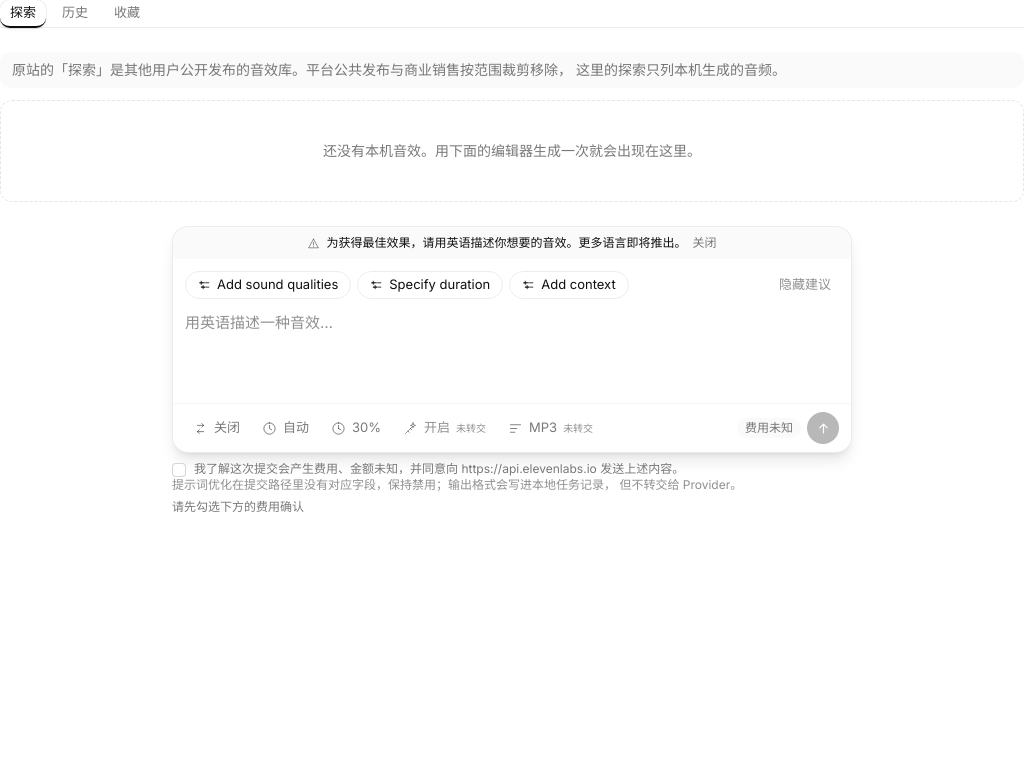
SfxPage › submits the trimmed prompt with the chosen local duration
Expected: the text box named "音效提示词" is shown, [185,311,839,391]
Click the button with aria-label "时长：自动".
click(286, 428)  # box [254,412,317,444]
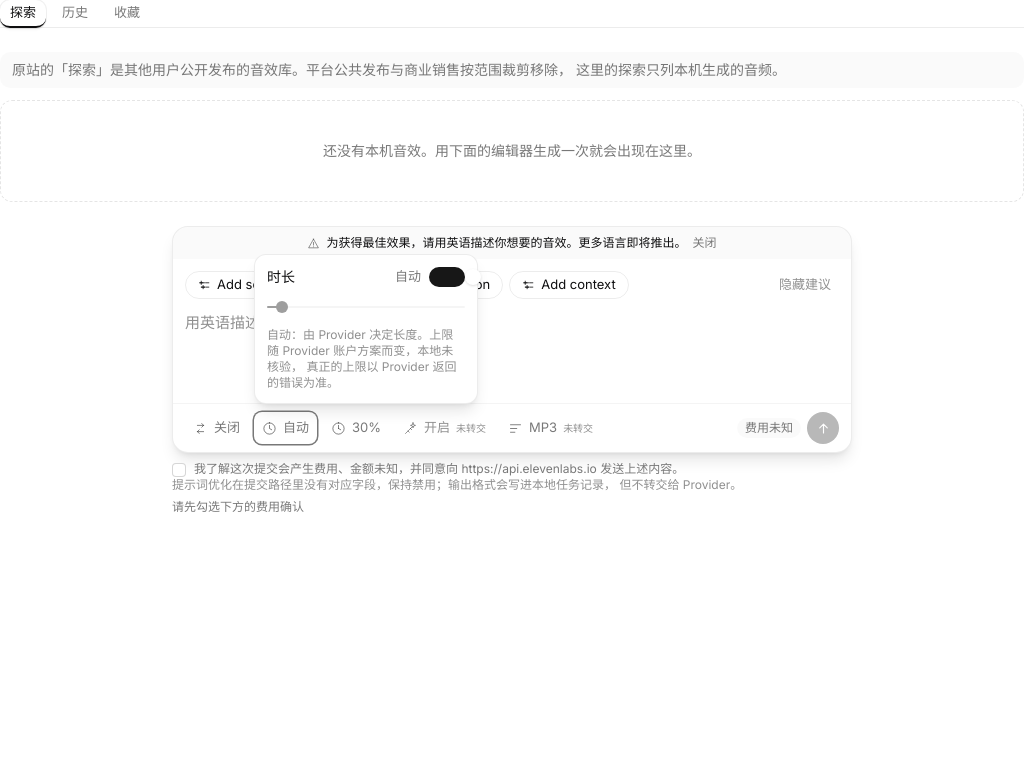
Click the switch named "时长自动".
click(447, 277)  # box [429,267,465,287]
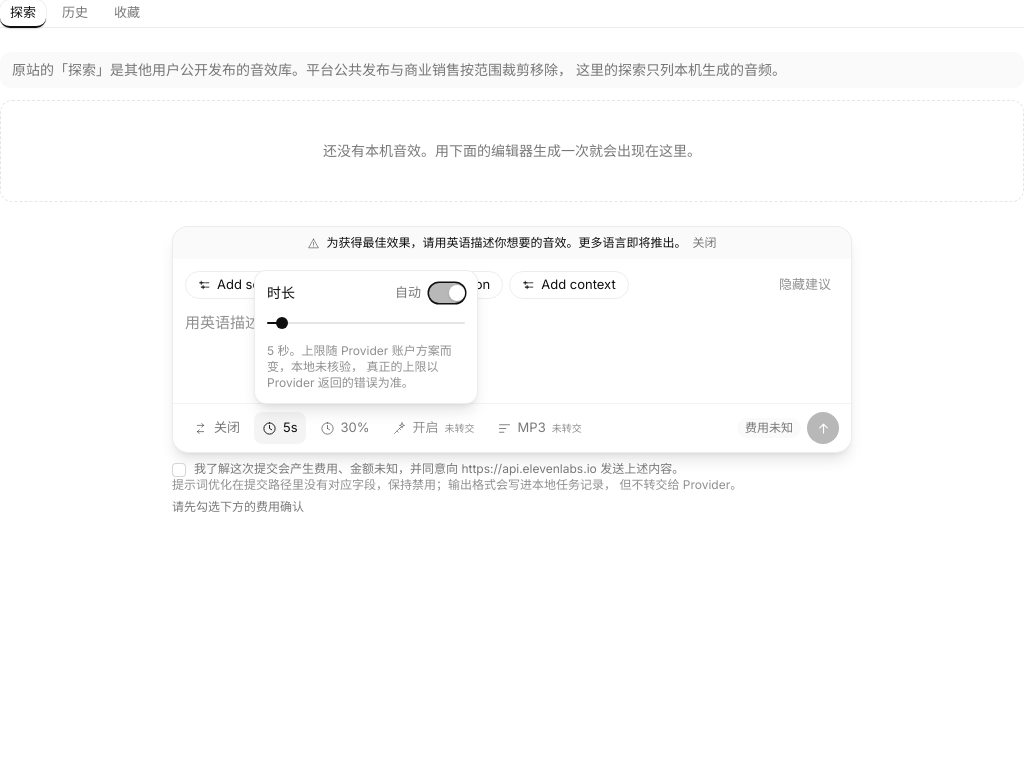
Press Escape
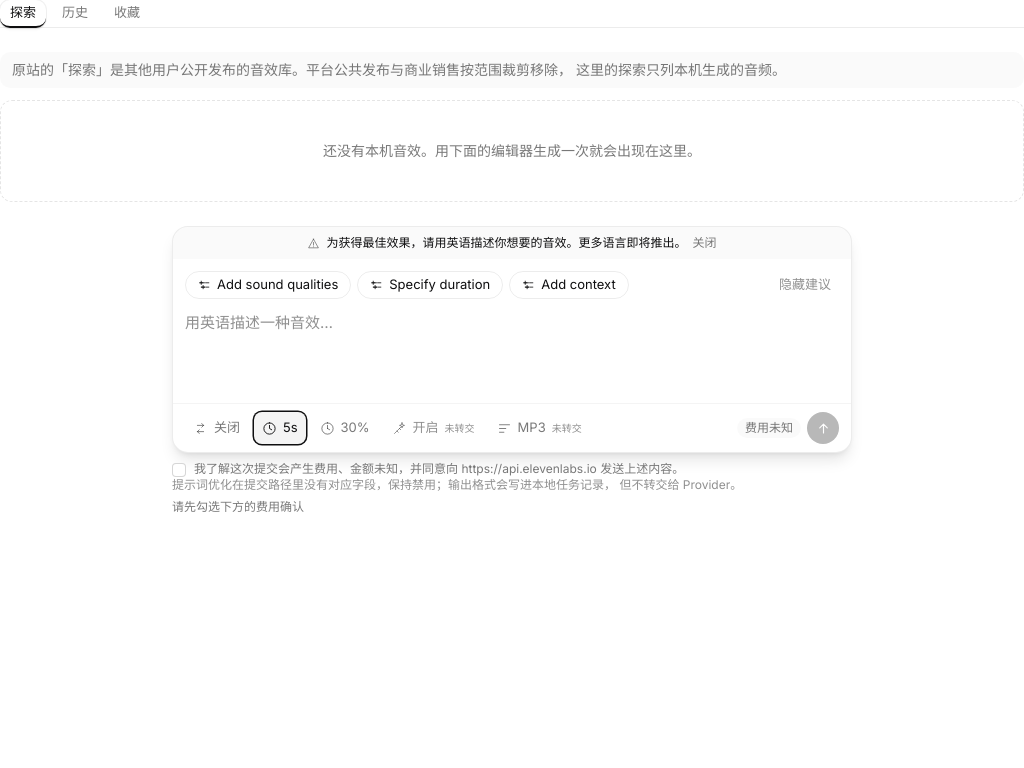
Type "  篝火噼啪声  " into the text box named "音效提示词".
click(512, 351); type("  篝火噼啪声  ")  # box [185,311,839,391]
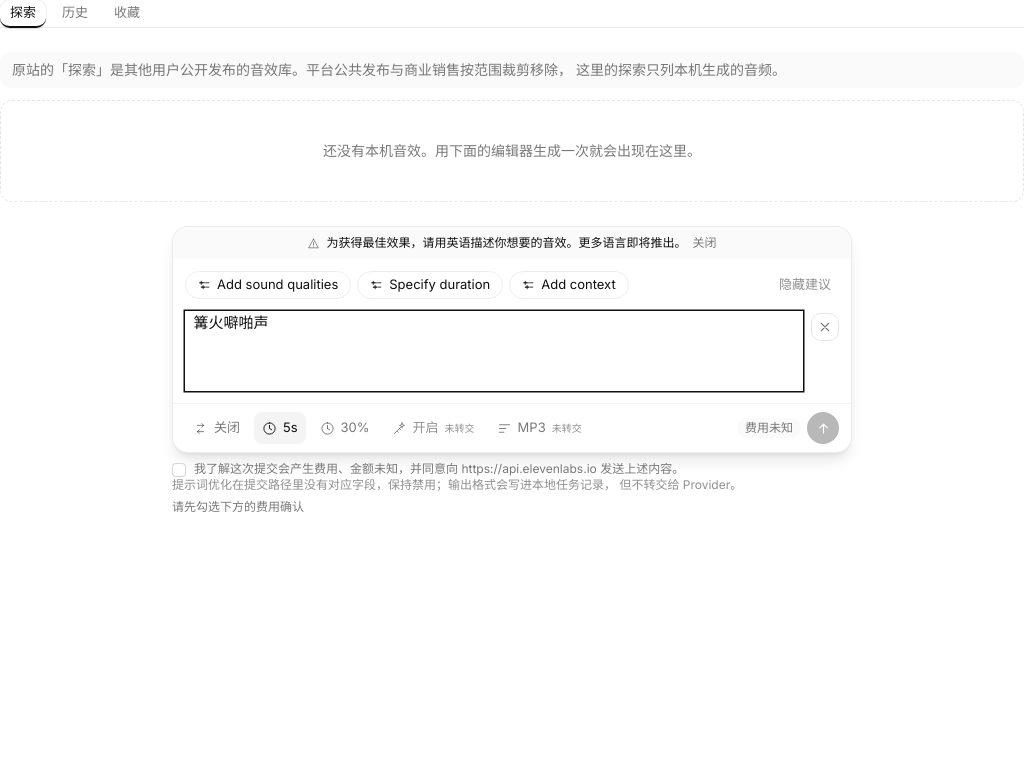
Click the checkbox labelled "我了解这次提交会产生费用、金额未知，并同意向 https://api.elevenlabs.io 发送上述内容。".
click(179, 470)  # box [172,463,186,477]
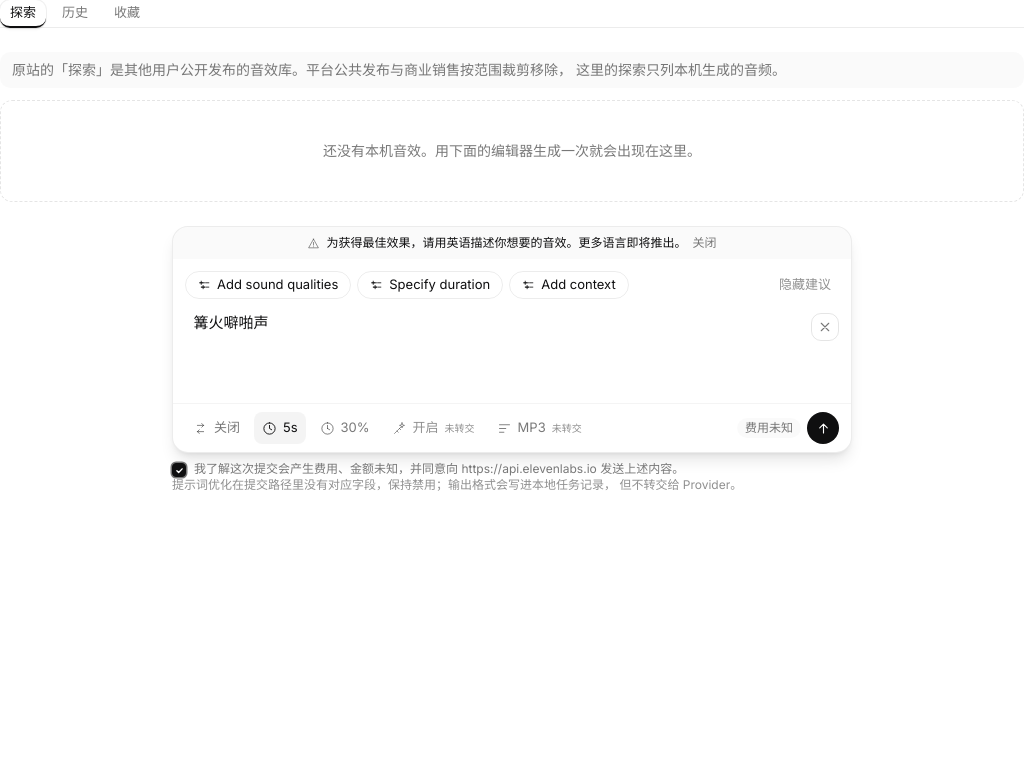
Click the button named "生成音效".
click(823, 428)  # box [807,412,839,444]
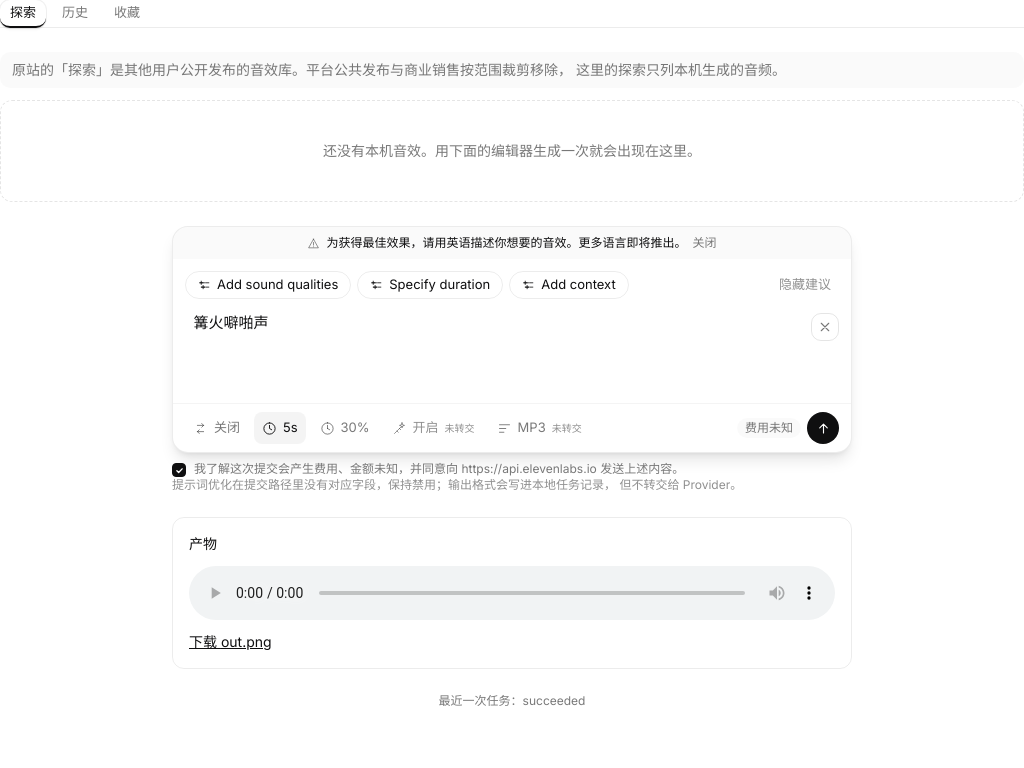
Expected: the link "下载 out.png" is shown, [189,632,272,652]
